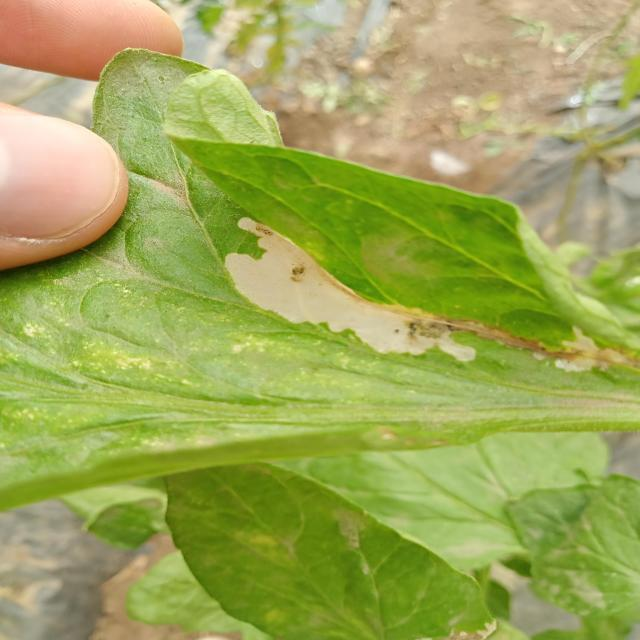Tuta absoluta: (213, 210, 640, 435)
